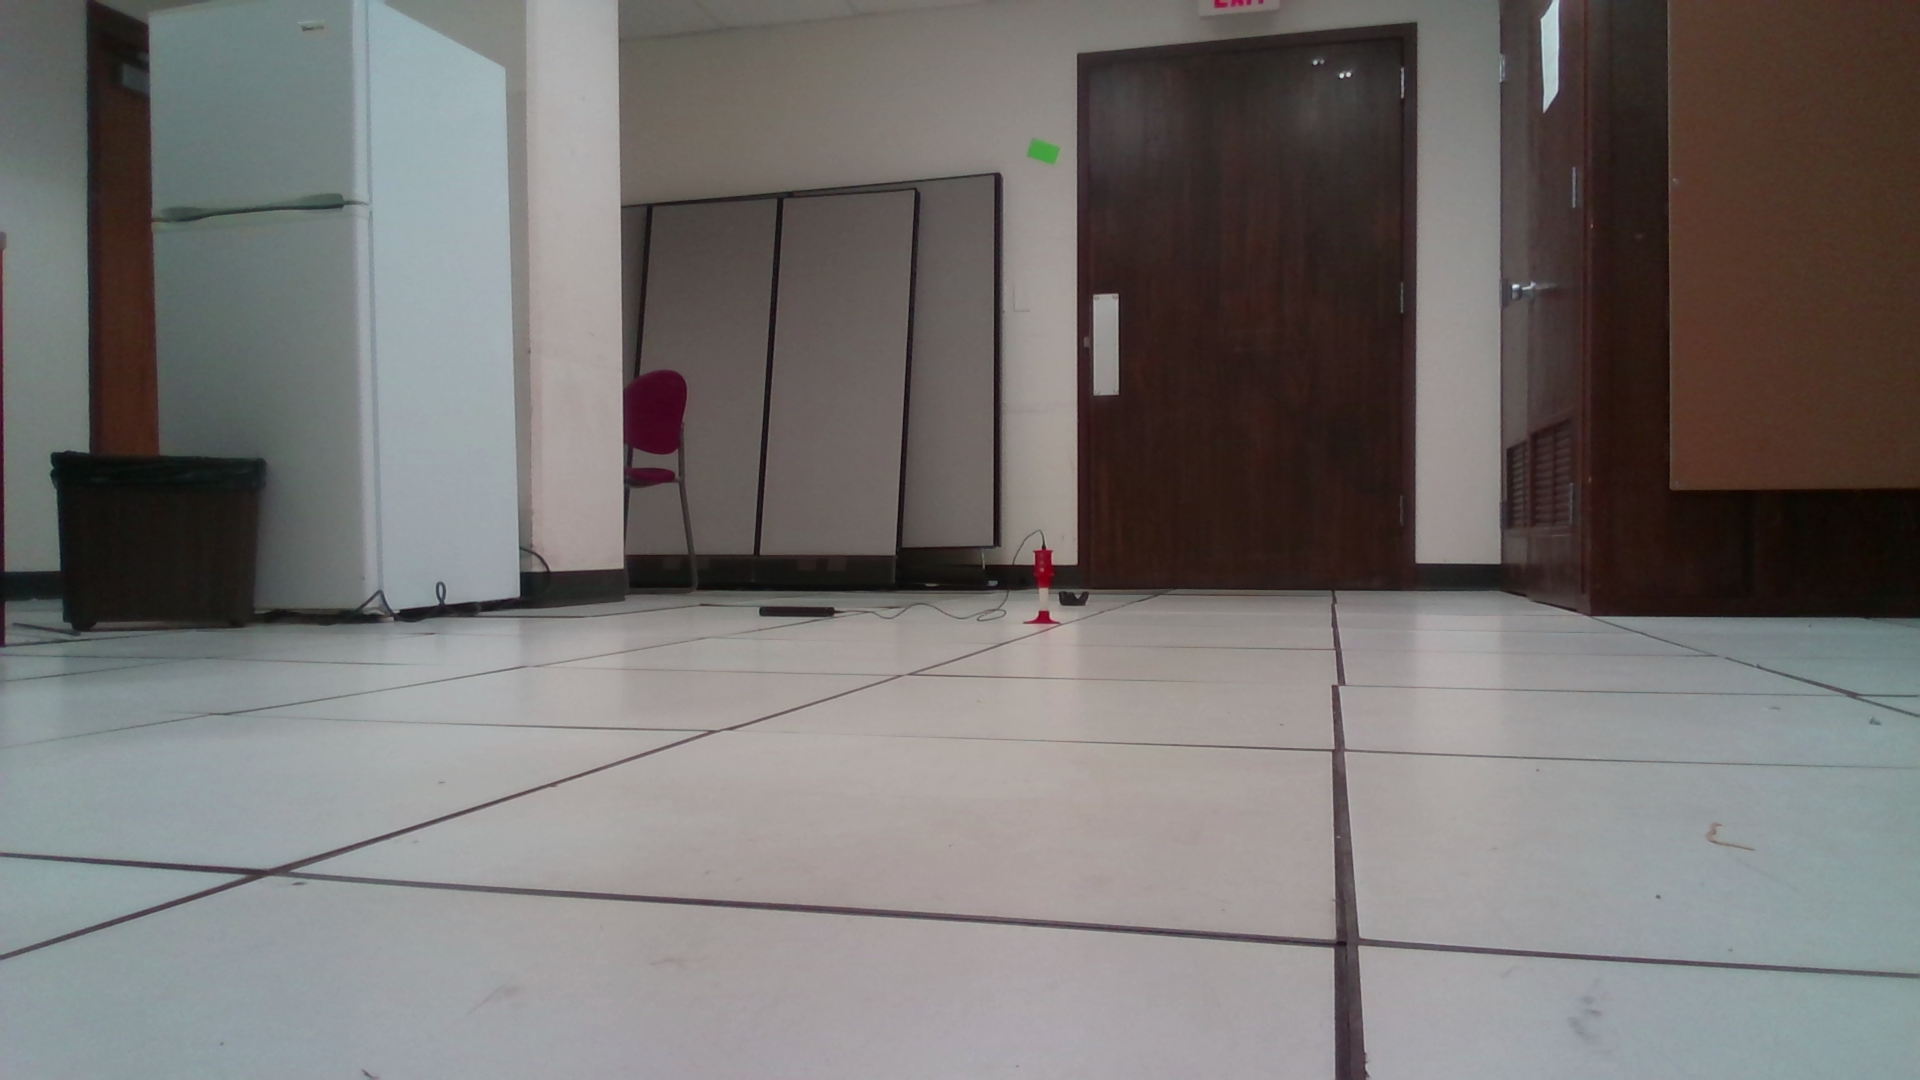stoplight: (1035, 545, 1055, 589)
